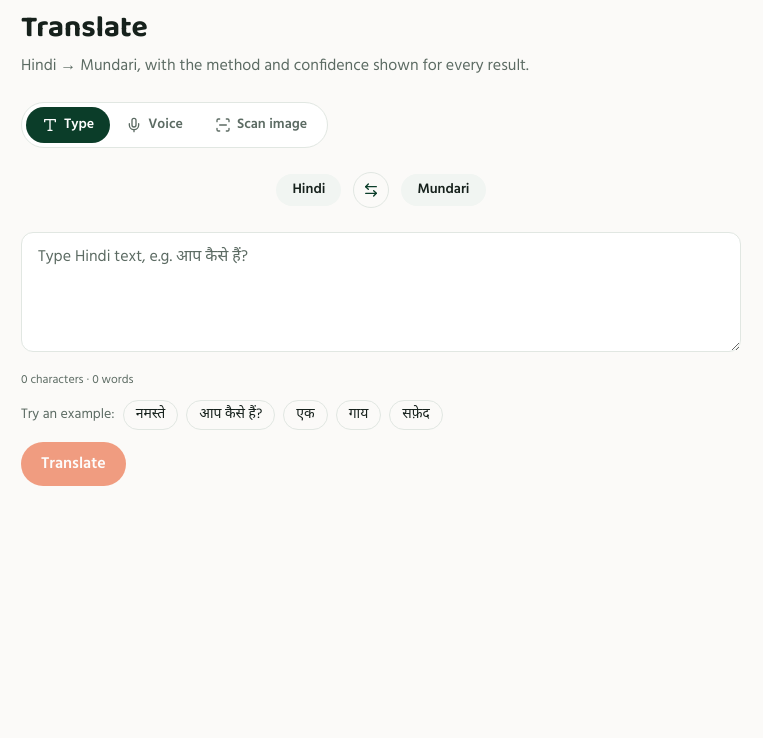
Test: Translate page › shows a verified, high-confidence result after a successful exact match
Type "नमस्ते" into the text box with placeholder "Type Hindi text, e.g. आप कैसे हैं?" at (381, 292), box [21,232,741,352]
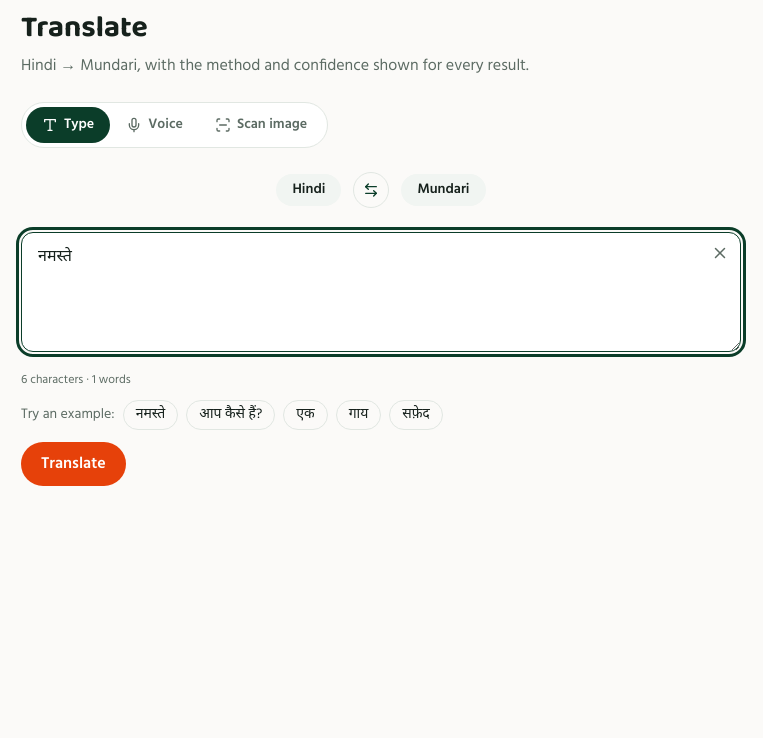
Click the button "Translate" at (73, 464), box [21,442,126,486]
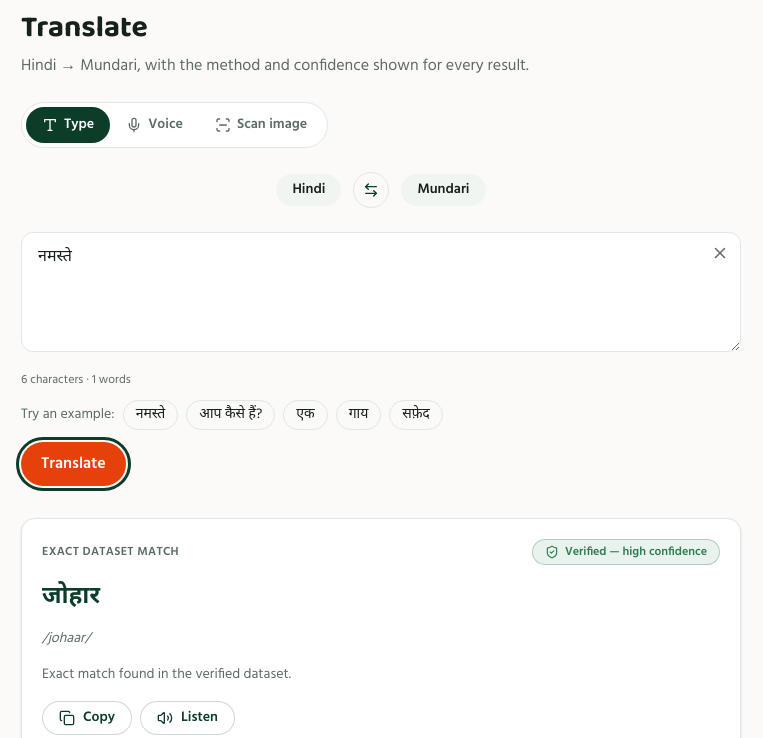
Expected: the text "जोहार" is shown, [42,577,100,616]
